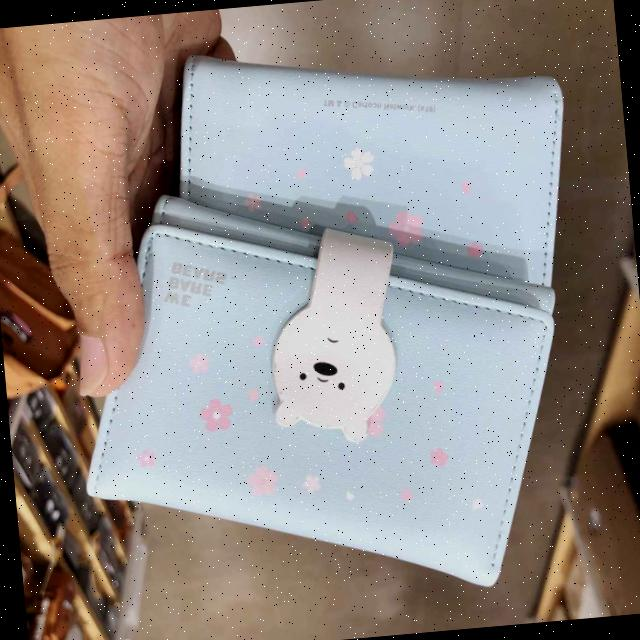Handbag: (61, 170, 584, 618)
